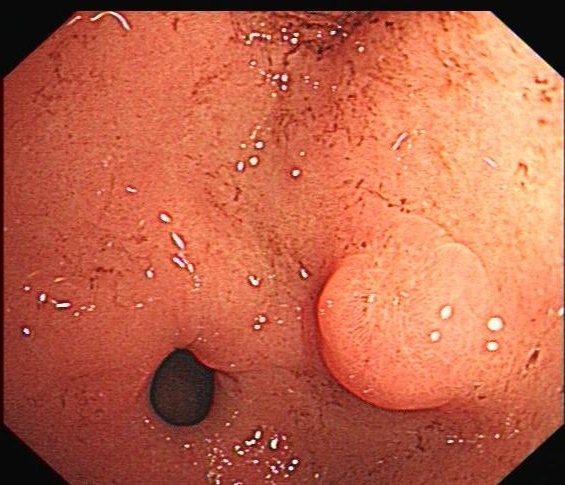Polyp: (309, 251, 489, 414)
